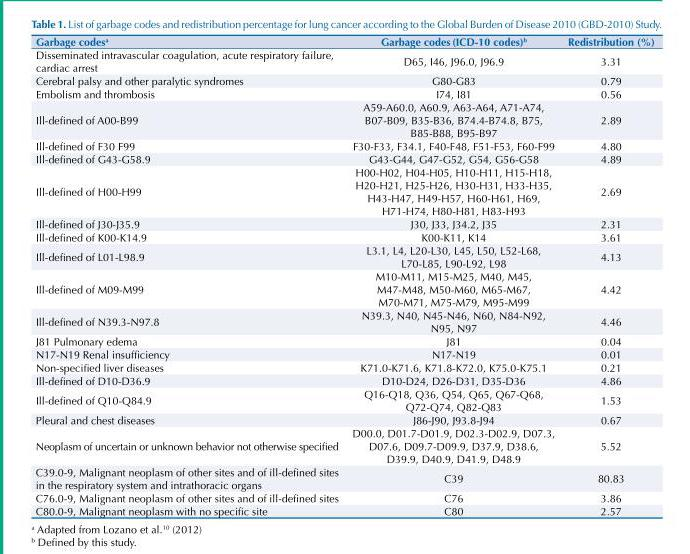table: (34, 34, 653, 517)
table column: (34, 34, 344, 517), (344, 34, 560, 517), (560, 34, 653, 517)
table column header: (34, 34, 653, 47)
table row: (34, 165, 653, 217), (34, 100, 653, 139), (34, 269, 653, 308), (34, 426, 653, 465), (34, 47, 653, 73), (34, 243, 653, 269), (34, 308, 653, 334), (34, 387, 653, 413), (34, 465, 653, 491), (34, 73, 653, 87), (34, 373, 653, 387), (34, 34, 653, 47), (34, 87, 653, 100), (34, 139, 653, 152), (34, 152, 653, 165), (34, 217, 653, 230), (34, 230, 653, 243), (34, 334, 653, 347), (34, 347, 653, 360), (34, 360, 653, 373), (34, 413, 653, 426), (34, 491, 653, 504), (34, 504, 653, 517)
